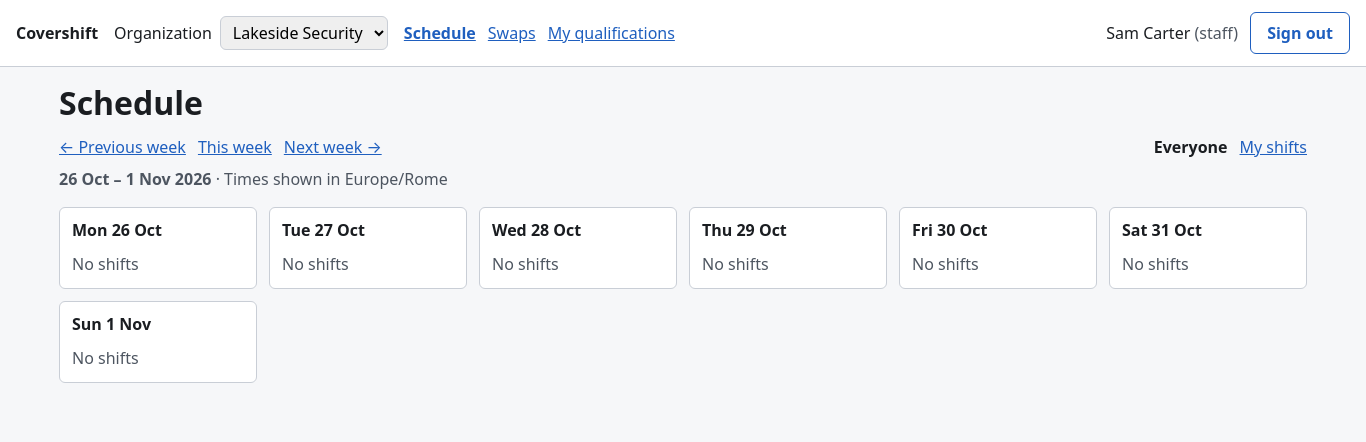
Test case: protected routes and the org layout › the switcher lists my organizations and keeps the section
Select "Harbour Ops" in the dropdown labelled "Organization" at (304, 33), box [220,16,388,50]
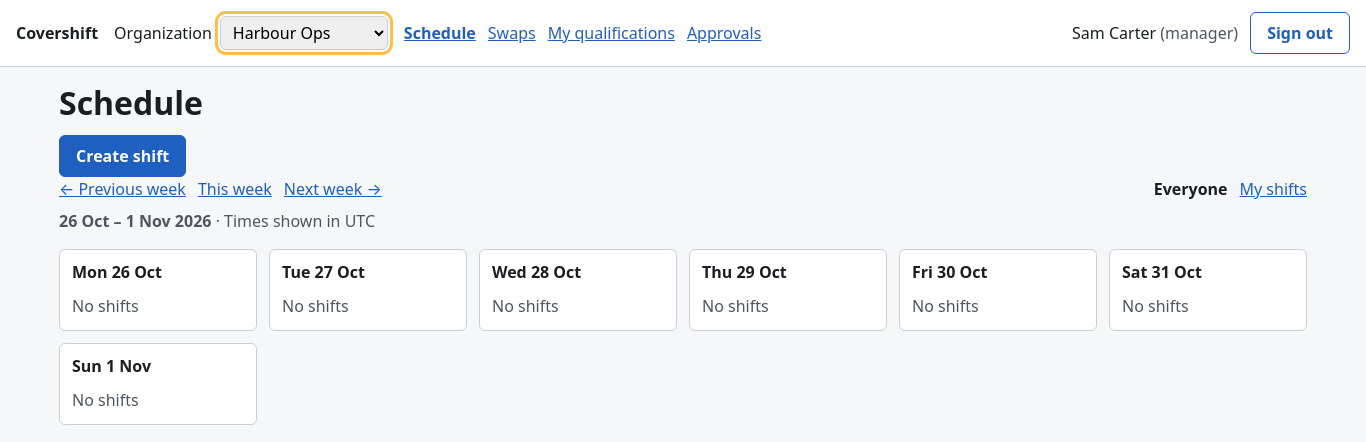
Expected: the text "(manager)" is shown, [1160,22,1238,44]
